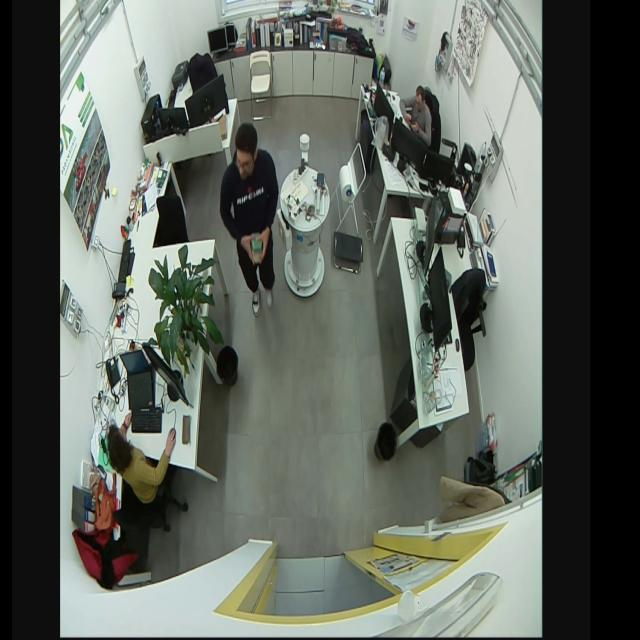Persona: (218, 118, 281, 322), (103, 410, 177, 509), (396, 81, 436, 151)
